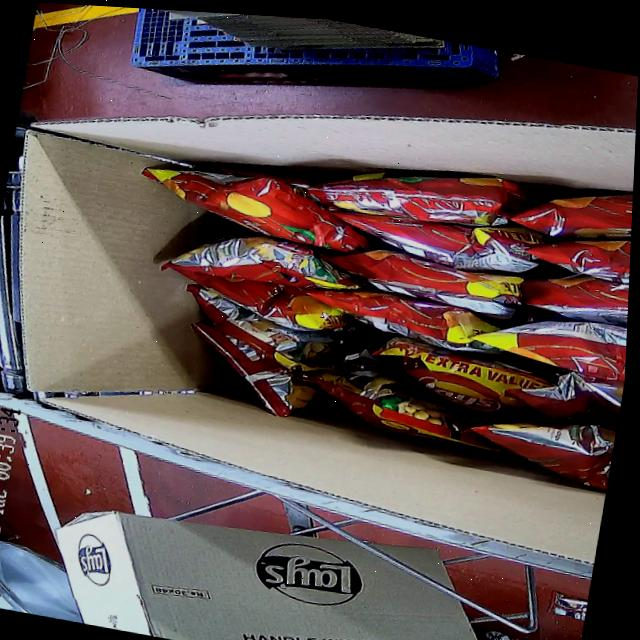MASALA: (101, 95, 636, 492)
